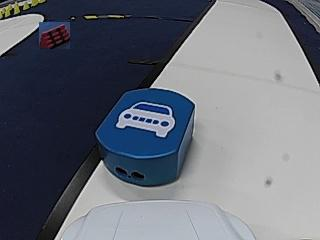safety: (116, 103, 177, 136)
